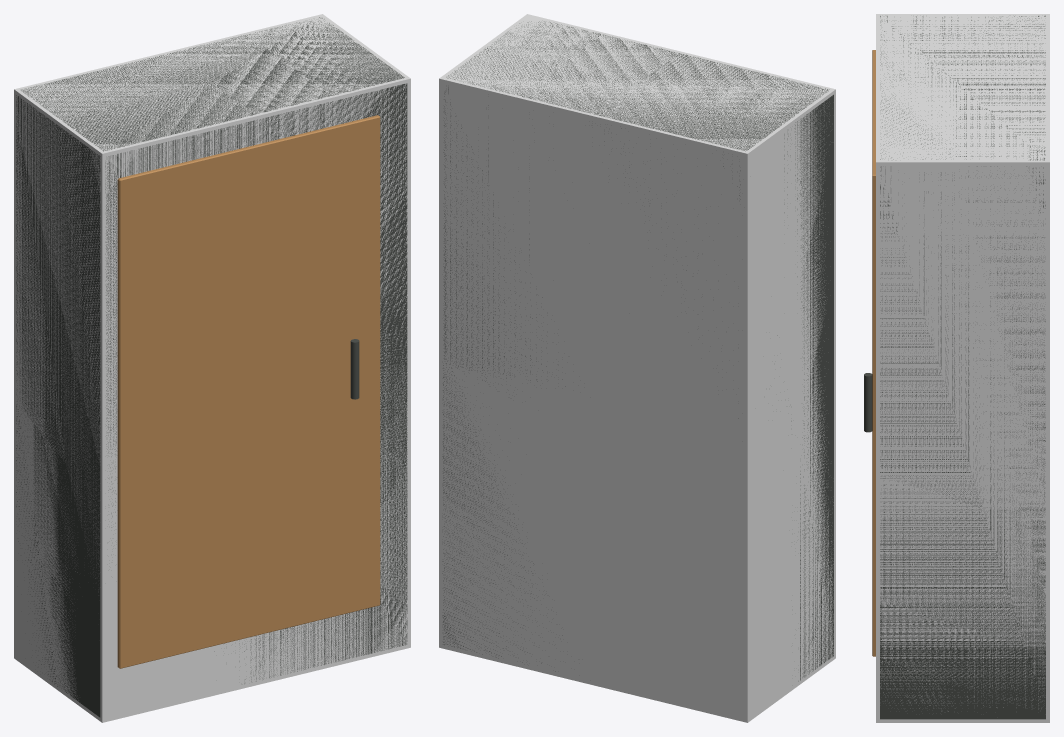
Rendered from filing-cabinet_commercial.glb.
The picture shows the model from 3 angles, left to right: view 1: azimuth 30°, elevation 25°; view 2: azimuth 150°, elevation 25°; view 3: azimuth 270°, elevation 25°; orthographic projection.
Parts seen in each view (by area): view 1: MESH_Door_01, COL_filing-cabinet, MESH_CabinetCarcass; view 2: COL_filing-cabinet, MESH_CabinetCarcass; view 3: COL_filing-cabinet, MESH_CabinetCarcass, MESH_Door_01, MESH_Handle.
Part boxes in pixels (left/top/right/bottom): MESH_Door_01: left=117, top=115, right=380, bottom=668; COL_filing-cabinet: left=14, top=14, right=410, bottom=722; MESH_CabinetCarcass: left=16, top=17, right=407, bottom=717; COL_filing-cabinet: left=439, top=14, right=835, bottom=722; MESH_CabinetCarcass: left=442, top=21, right=833, bottom=681; COL_filing-cabinet: left=876, top=14, right=1049, bottom=722; MESH_CabinetCarcass: left=880, top=15, right=1045, bottom=719; MESH_Door_01: left=872, top=50, right=875, bottom=656; MESH_Handle: left=864, top=373, right=872, bottom=432.
Bounding box in the file's own units: 1.05 × 1.85 × 0.556.
